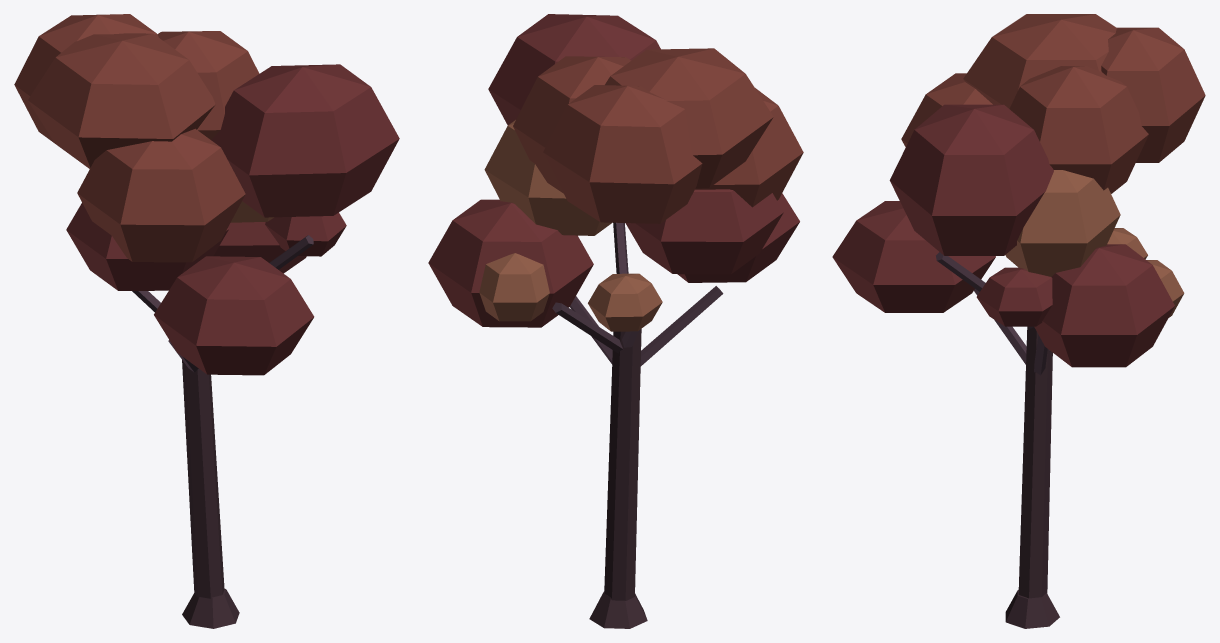
File: copac_1.glb
3 views of the same model, side by side, from view 1: azimuth 30°, elevation 25°; view 2: azimuth 150°, elevation 25°; view 3: azimuth 270°, elevation 25° (orthographic). The views are drawn at different scales.
Parts seen in each view (by area): view 1: Copac; view 2: Copac; view 3: Copac.
Boxes of the visible parts, left/top/right/bottom form: Copac: left=14, top=14, right=399, bottom=628; Copac: left=428, top=14, right=803, bottom=628; Copac: left=832, top=14, right=1205, bottom=628.
Size of the model in its own units: 3.48 by 6.99 by 4.17.
